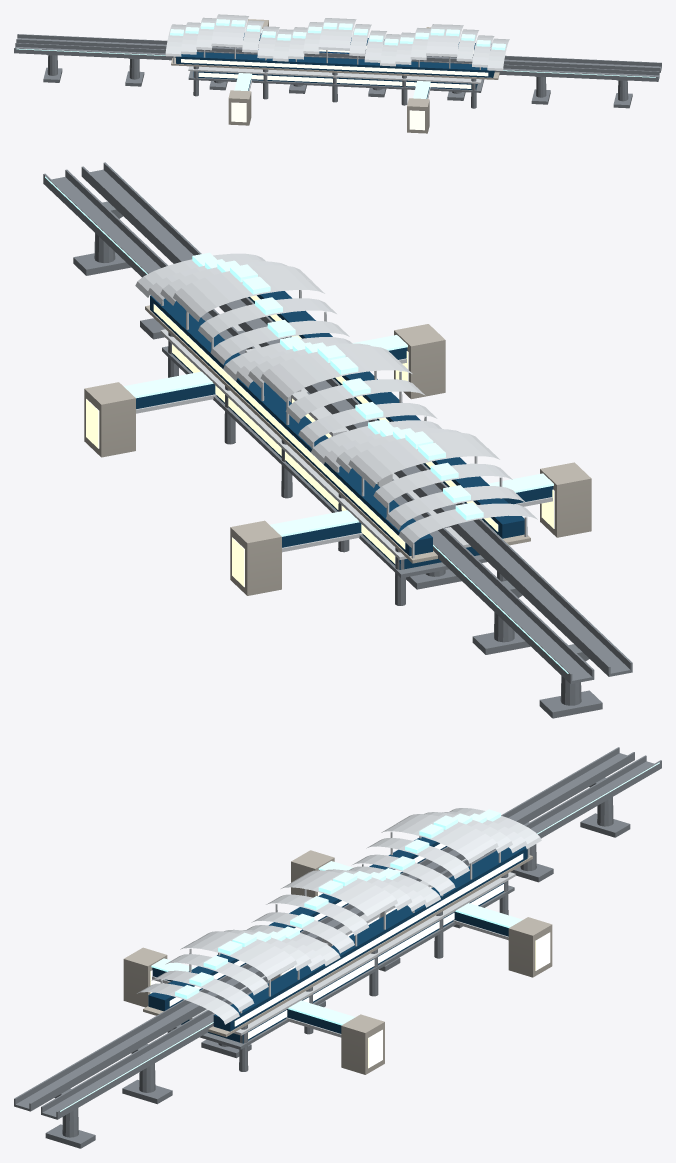
Rendered from metro_line1_elevated_stations_viaduct.glb.
The picture shows the model from 3 angles, top to bottom: view 1: azimuth 30°, elevation 25°; view 2: azimuth 150°, elevation 25°; view 3: azimuth 270°, elevation 25°; orthographic projection. The views are drawn at different scales.
Parts seen in each view (by area): view 1: metro_line1_elevated_stations_viaduct; view 2: metro_line1_elevated_stations_viaduct; view 3: metro_line1_elevated_stations_viaduct.
Boxes of the visible parts, box(x1,y1,x2,y2) form: metro_line1_elevated_stations_viaduct: box(14, 14, 661, 133); metro_line1_elevated_stations_viaduct: box(43, 162, 632, 718); metro_line1_elevated_stations_viaduct: box(14, 747, 661, 1148).
Bounding box in the file's own units: 218 × 28.5 × 164.
